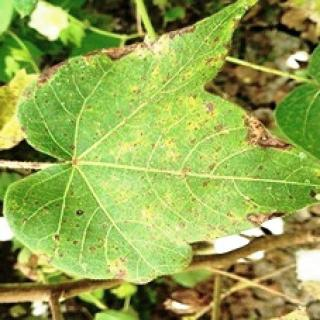blight: (23, 7, 316, 273)
